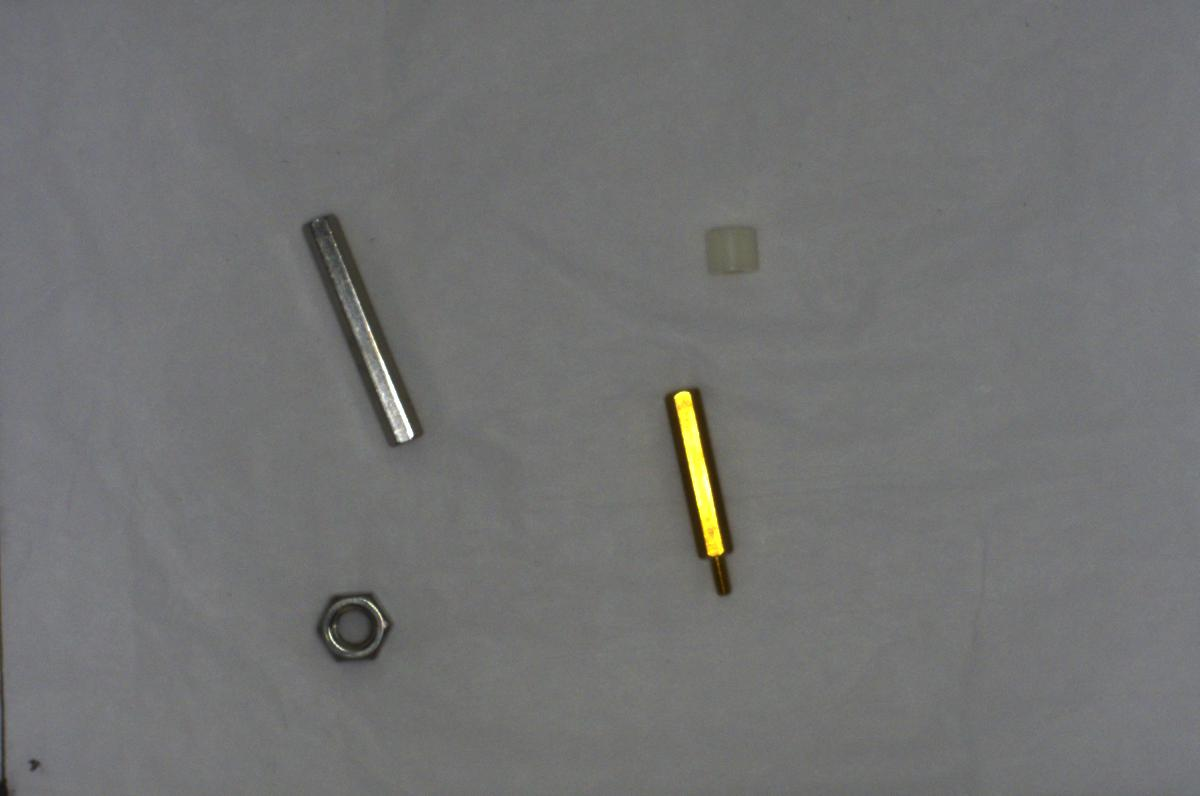Double hexagonal column: (294, 201, 426, 453)
Hexagon nut: (306, 583, 397, 673)
Hexagon pillar: (648, 383, 741, 595)
Plastic cushion pillar: (699, 212, 767, 282)
